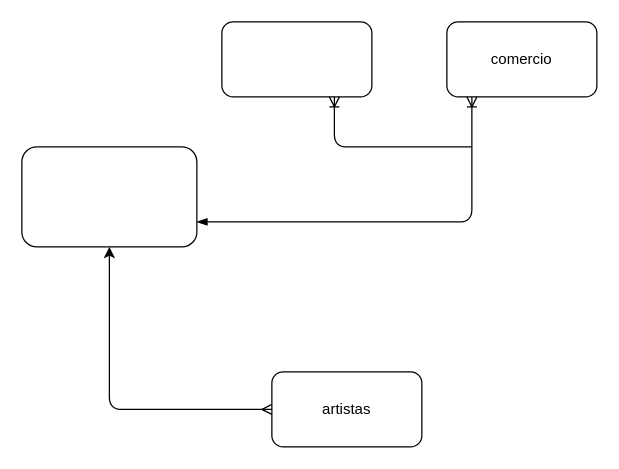
Image size: 619x469. Some labels were removed from this diagram. Here are the shapes that lost their labels. From the top down, the box of each, then its label:
(221, 21, 372, 97): productora
(21, 146, 197, 247): Evento
